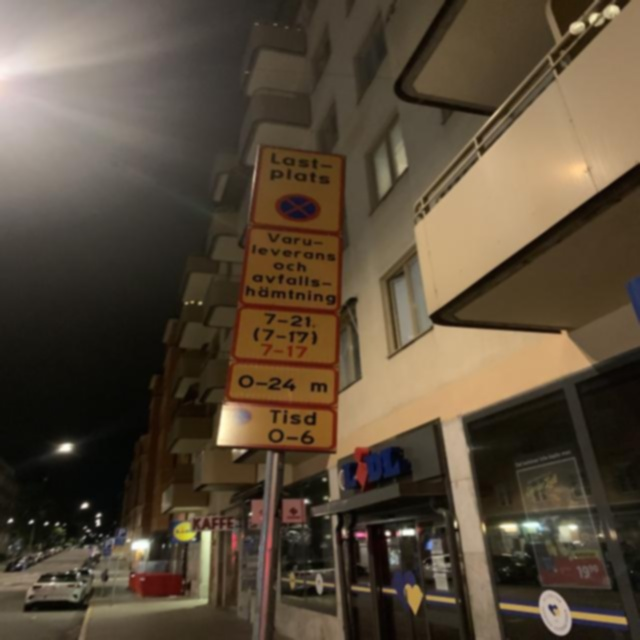lastplats: (250, 141, 345, 235)
